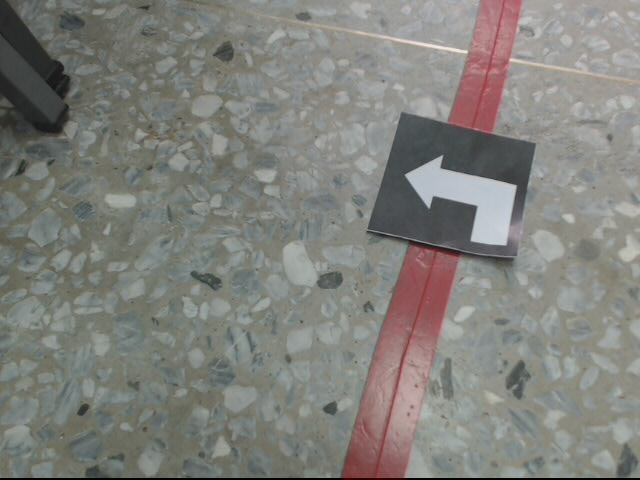left: (367, 110, 539, 258)
